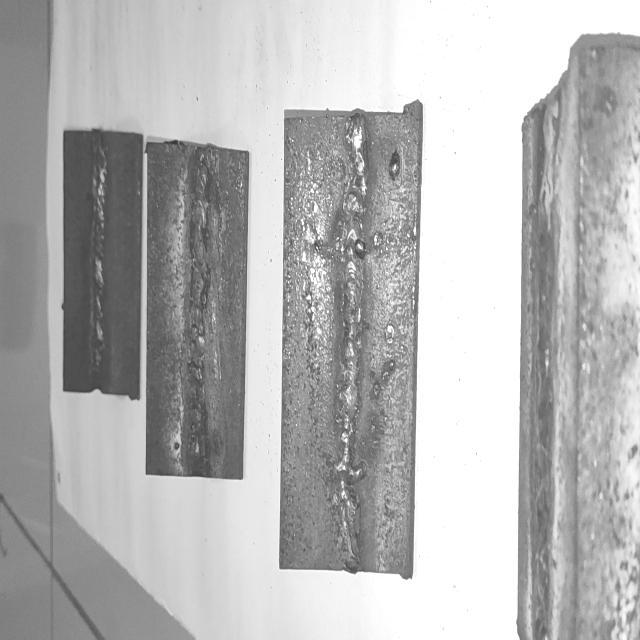Welding Line: (340, 116, 368, 572), (186, 150, 212, 469), (88, 134, 104, 389)
Workpiece: (280, 103, 422, 582), (146, 140, 248, 485), (61, 129, 146, 396)
